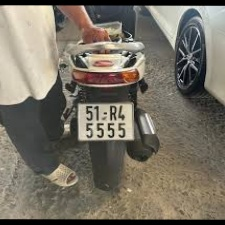Bien-so: (76, 103, 134, 144)
